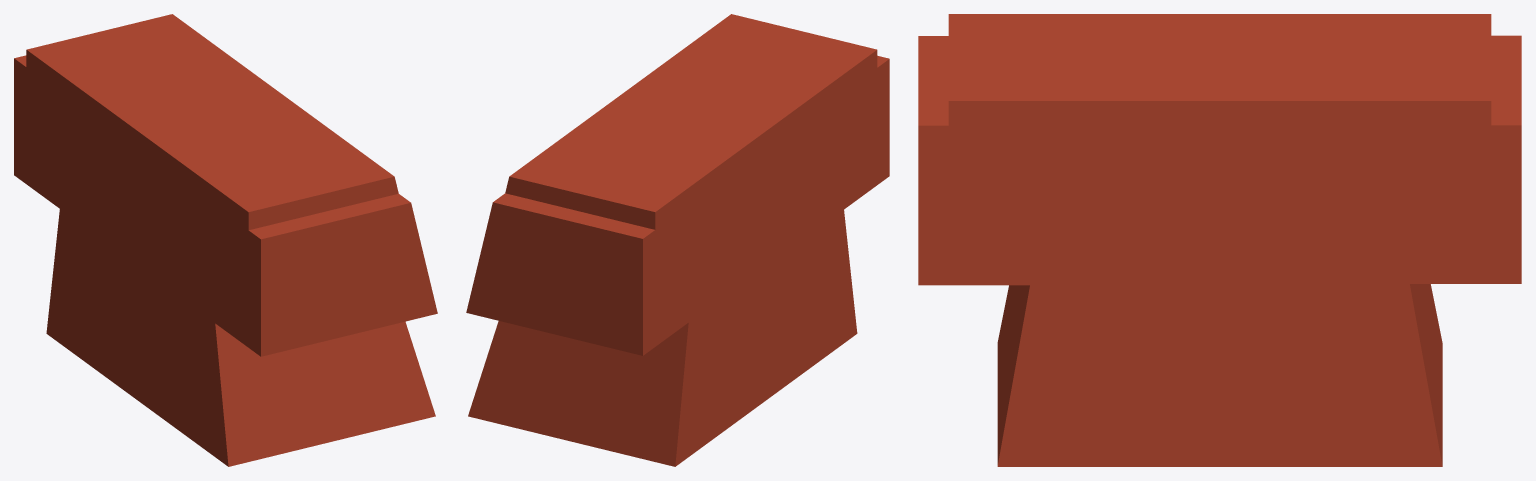
File: fbx_torso_farmer.fbx
3 renders of one model, left to right at view 1: azimuth 30°, elevation 25°; view 2: azimuth 150°, elevation 25°; view 3: azimuth 270°, elevation 25°, orthographic. The views are drawn at different scales.
Parts seen in each view (by area): view 1: sm_torso_farmer; view 2: sm_torso_farmer; view 3: sm_torso_farmer.
Boxes of the visible parts, left/top/right/bottom form: sm_torso_farmer: left=14, top=14, right=437, bottom=466; sm_torso_farmer: left=466, top=14, right=889, bottom=466; sm_torso_farmer: left=918, top=14, right=1521, bottom=466.
Bounding box in the file's own units: 20.16 × 25.02 × 41.55.
